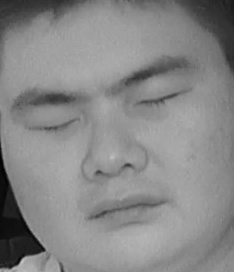blink: (133, 79, 191, 120), (29, 109, 80, 141)
mouth: (88, 189, 168, 232)
